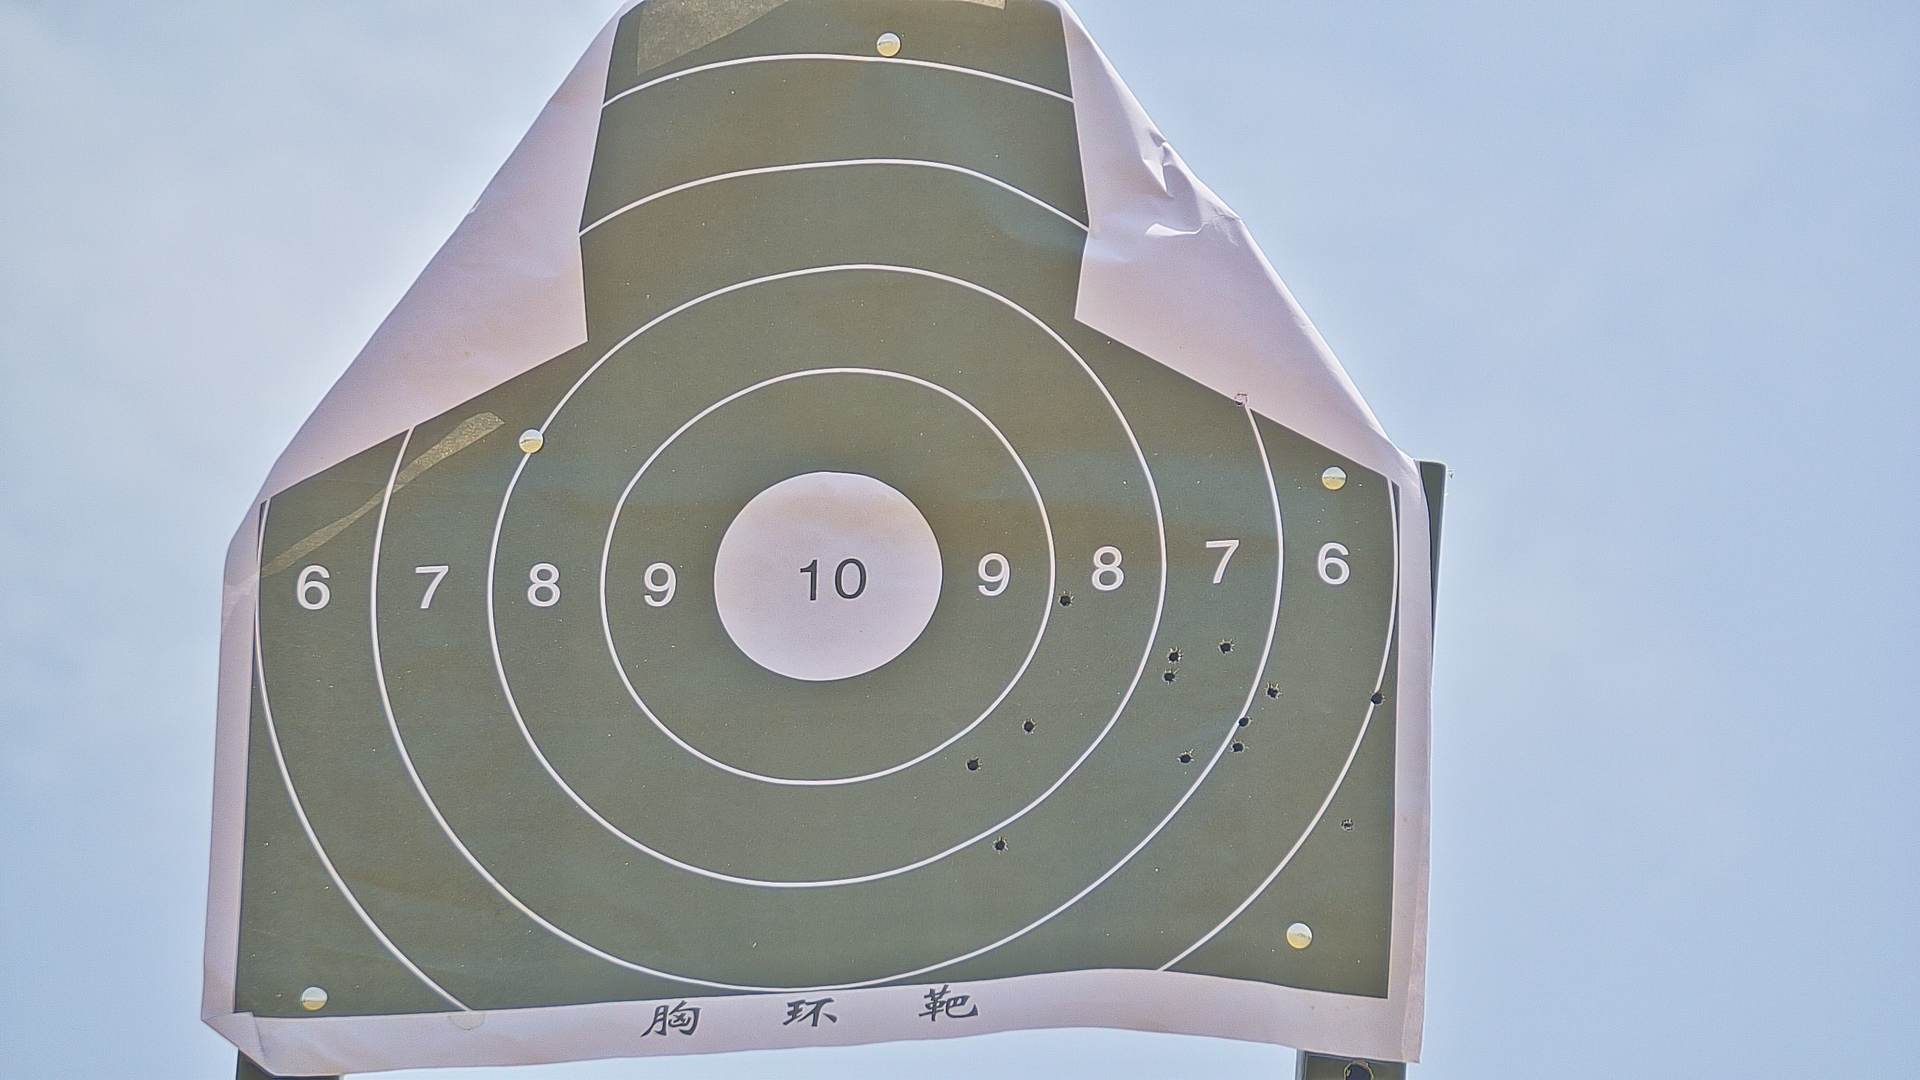hole: (1162, 669, 1178, 684), (1058, 592, 1075, 607), (965, 757, 981, 771), (994, 836, 1007, 853), (1232, 738, 1246, 753), (1370, 692, 1385, 707), (1023, 717, 1035, 735), (1168, 650, 1182, 665), (1237, 716, 1251, 729), (1338, 816, 1352, 831), (1178, 752, 1193, 764), (1265, 686, 1280, 698), (1218, 640, 1232, 653)
kernel: (825, 578, 833, 584)
target: (232, 1, 1398, 1005)
ten: (705, 467, 945, 684)
